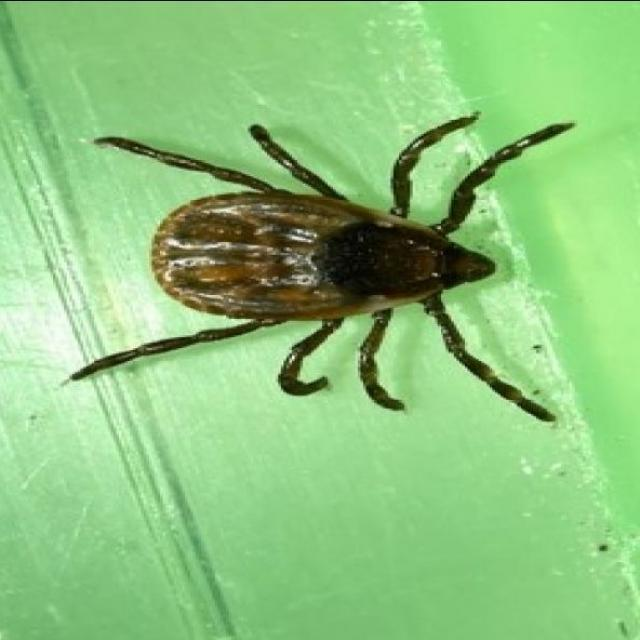Rhipicephalus Sanguineus-F: (69, 111, 577, 424)
